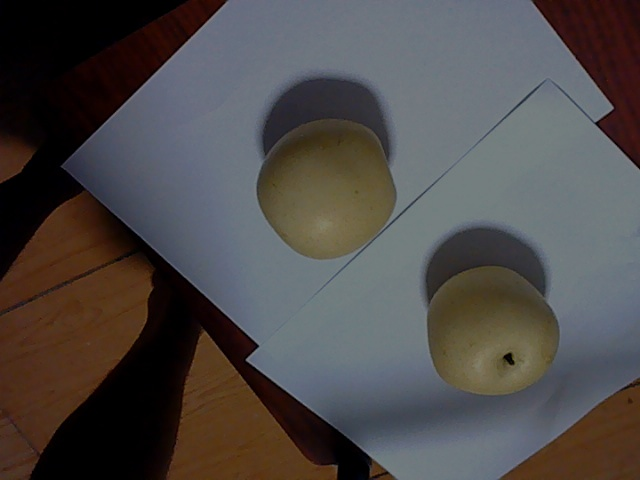pear: (254, 120, 400, 256), (417, 266, 560, 396)
